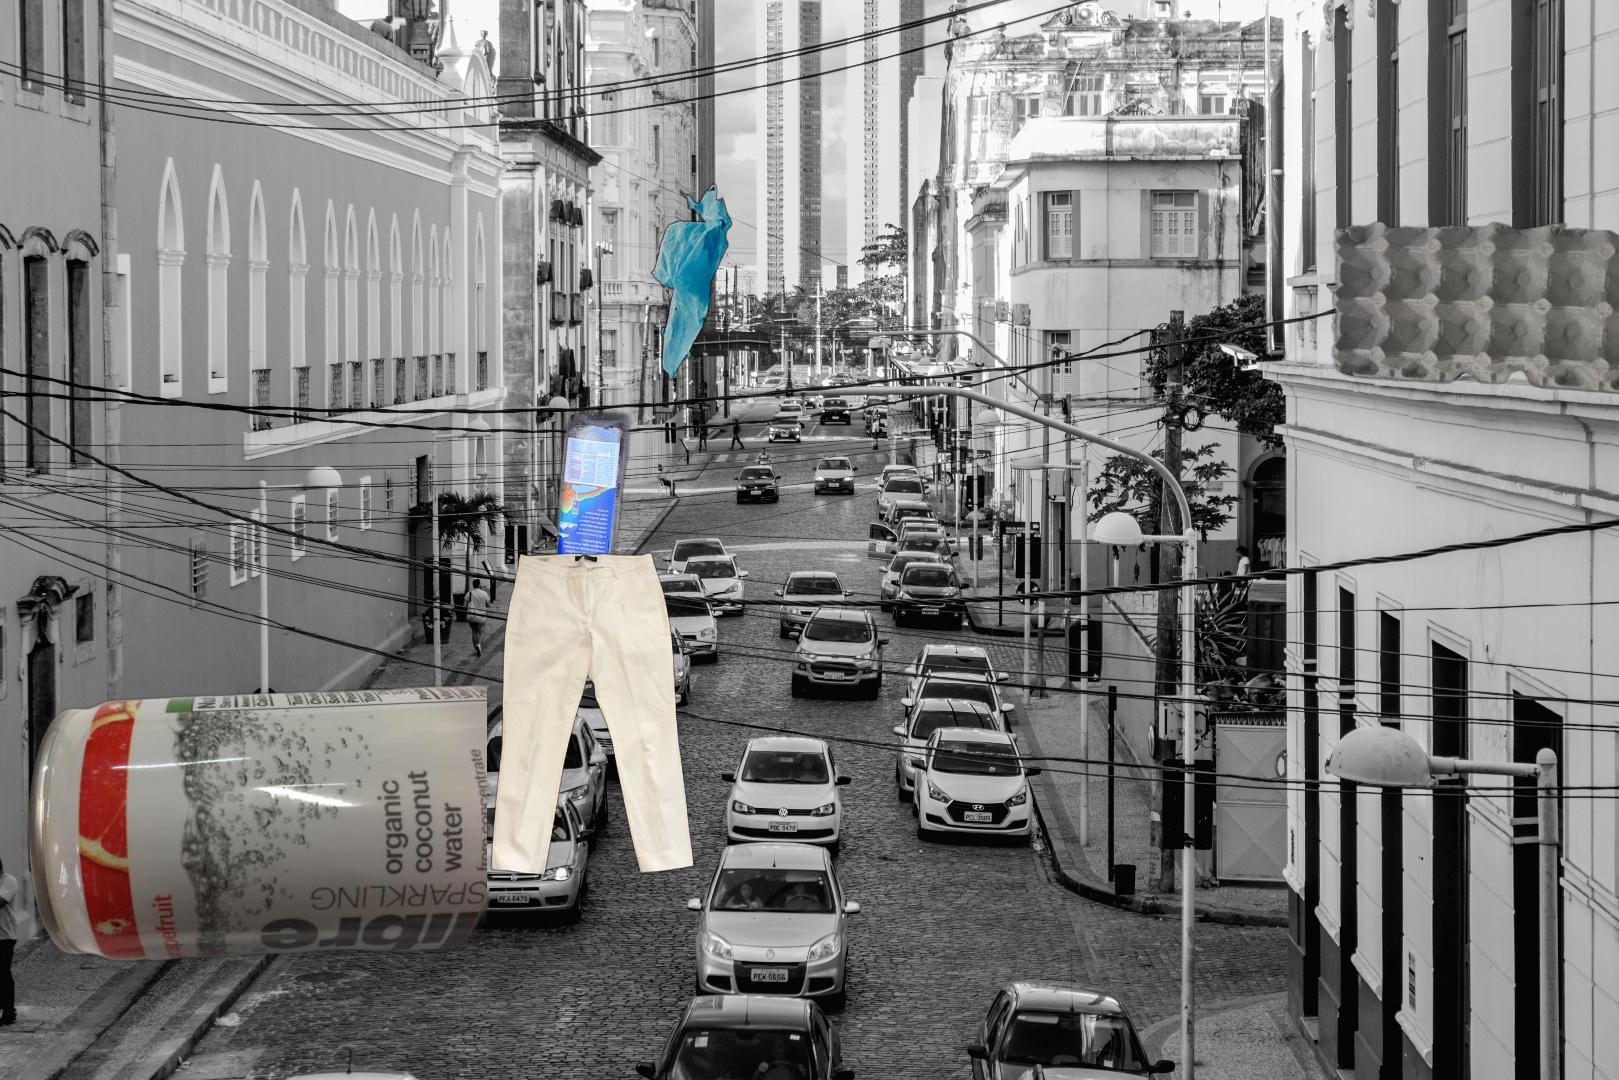clothes: (487, 548, 698, 880)
metal-cans: (24, 680, 487, 980)
paper: (1327, 218, 1619, 397)
plastic-bag: (649, 180, 734, 383)
plastic-bottles: (551, 403, 887, 614)
